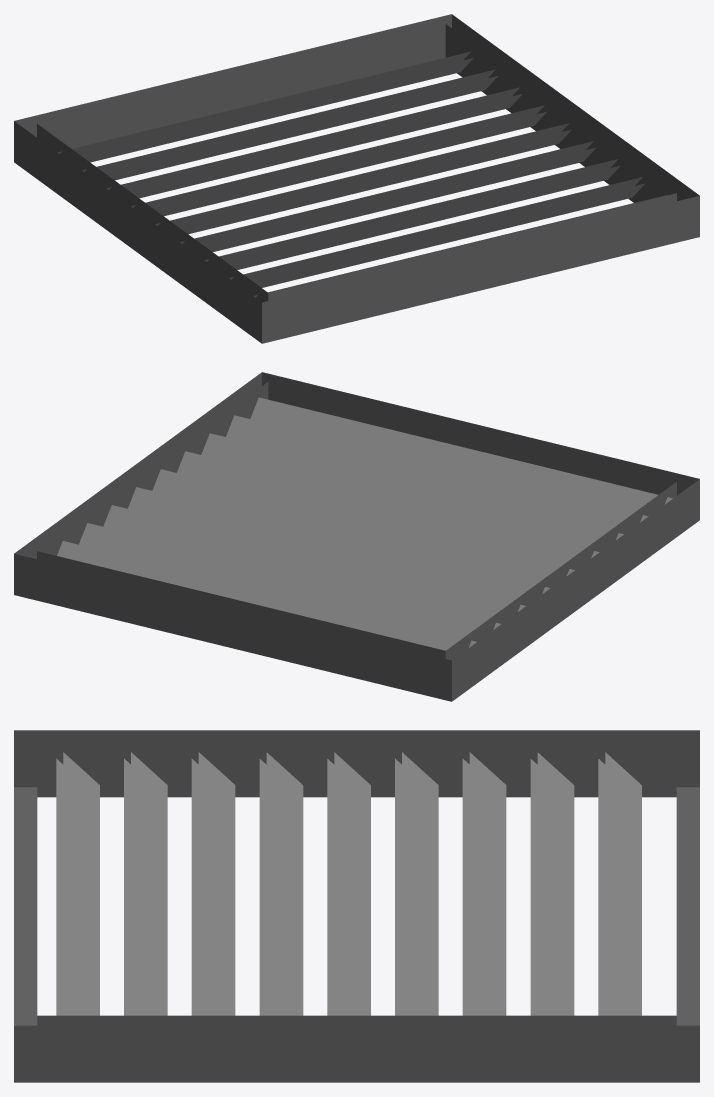
File: Vent.obj
3 views of the same model, one above another, from view 1: azimuth 30°, elevation 25°; view 2: azimuth 150°, elevation 25°; view 3: azimuth 270°, elevation 25° (orthographic). The views are drawn at different scales.
Parts seen in each view (by area): view 1: Vent.004; view 2: Vent.004; view 3: Vent.004.
Boxes of the visible parts, x1=… form: Vent.004: x1=14, y1=14, x2=699, y2=343; Vent.004: x1=14, y1=372, x2=699, y2=701; Vent.004: x1=14, y1=730, x2=699, y2=1082.
Size of the model in its own units: 0.605 by 0.0546 by 0.5937.
